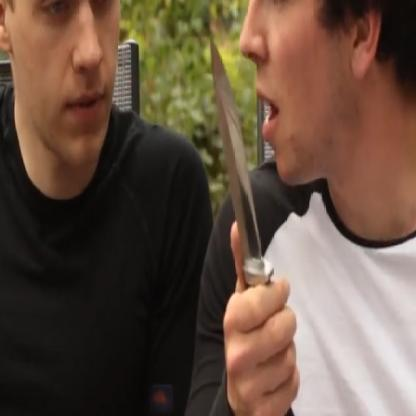knife: (202, 21, 306, 415)
